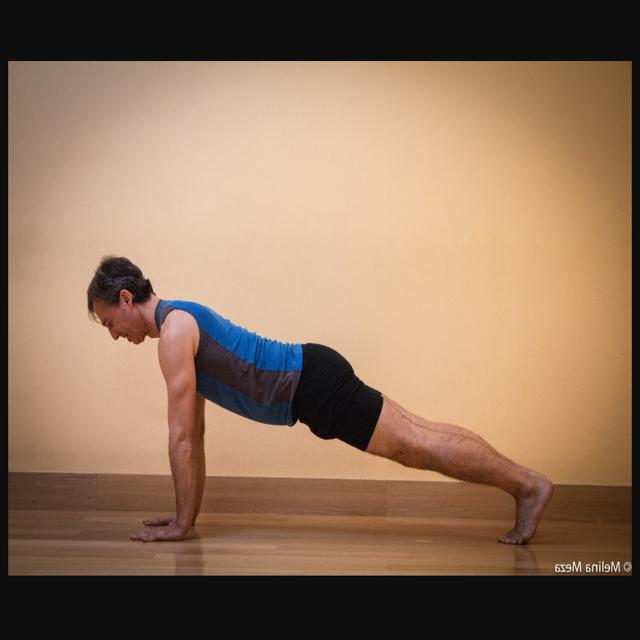Plank_Pose: (80, 249, 553, 555)
